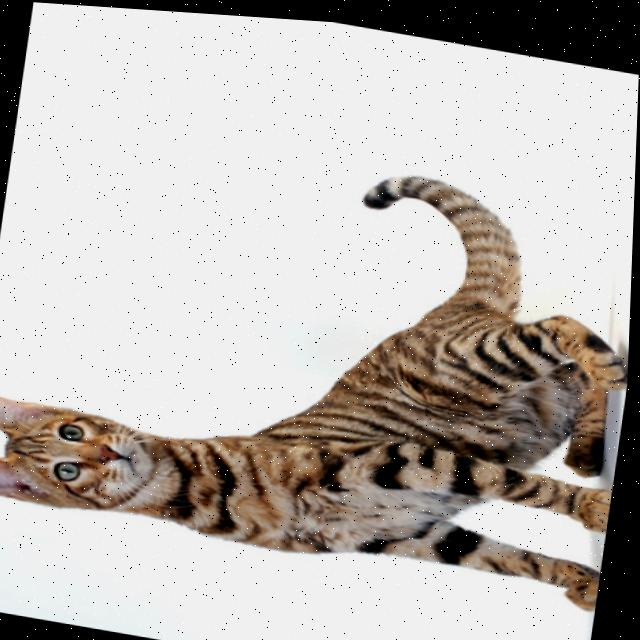Toyger: (0, 103, 637, 607)
